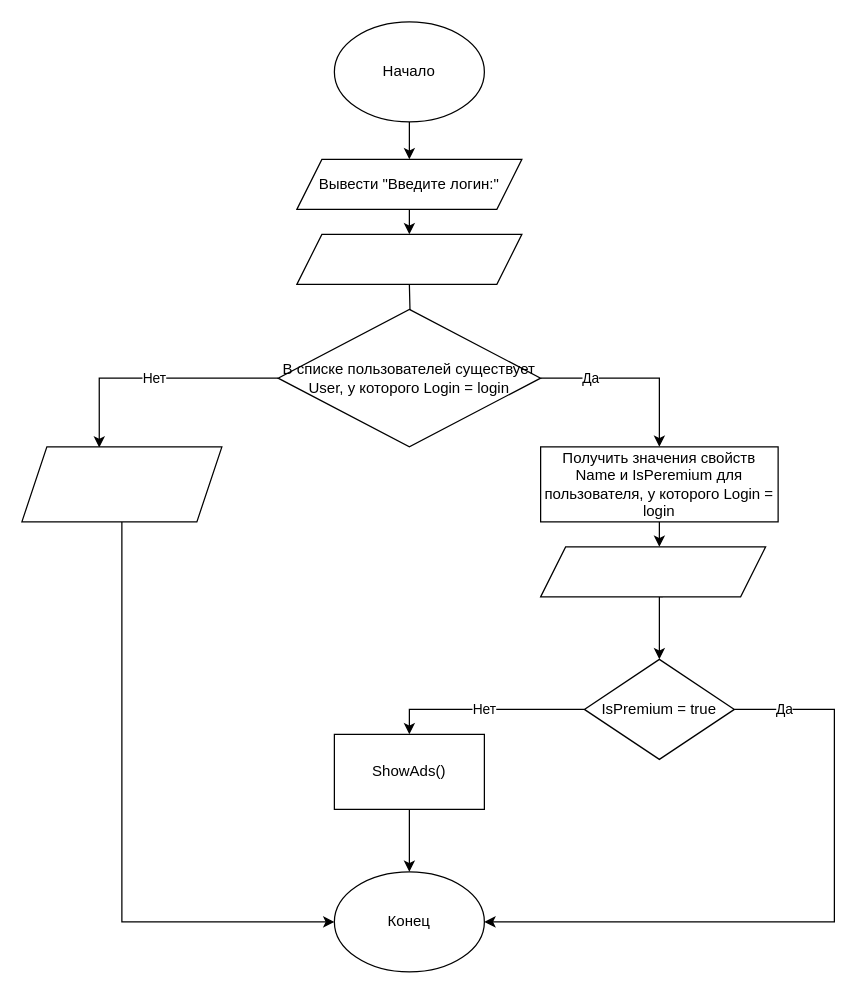
This 866x994 diagram has some shape labels left out. The centre of each missing label's shape, as x and y in pixels:
Вывести "Здравствуйте, " + Name + "!": (652,571)
Вывести "Такого пользователя не существует.": (121,484)
Считать login: (409,258)
